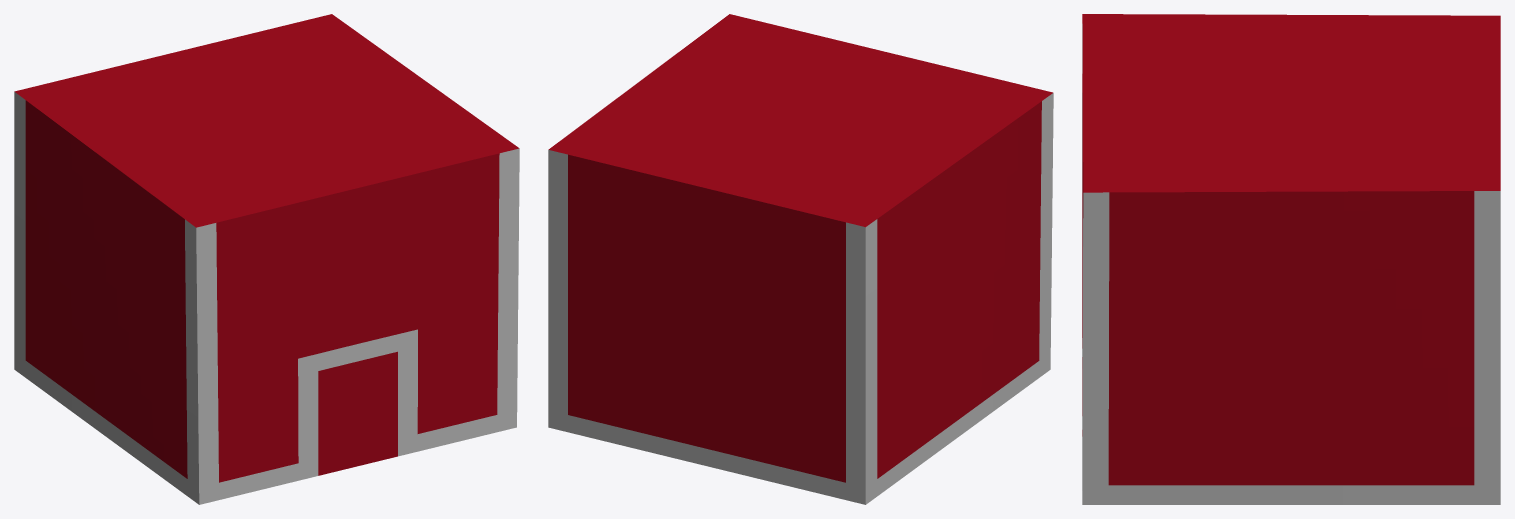
File: celeiro.fbx
3 renders of one model, left to right at view 1: azimuth 30°, elevation 25°; view 2: azimuth 150°, elevation 25°; view 3: azimuth 270°, elevation 25°, orthographic. The views are drawn at different scales.
Parts seen in each view (by area): view 1: pCube1; view 2: pCube1; view 3: pCube1.
Boxes of the visible parts, bbox=[...] form: pCube1: bbox=[14, 14, 519, 504]; pCube1: bbox=[548, 14, 1053, 504]; pCube1: bbox=[1082, 14, 1500, 504].
Size of the model in its own units: 3.46 by 2.84 by 3.42.
